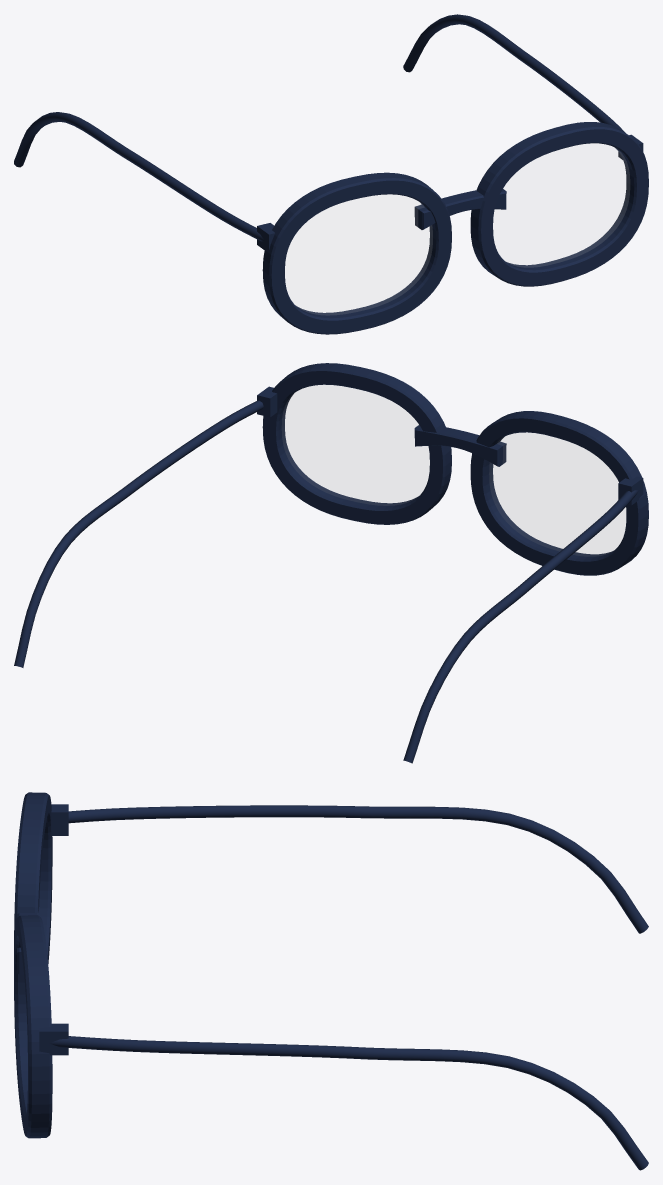
The model's file is NY-M10_Jasper_Navy.glb.
The picture shows the model from 3 angles, top to bottom: view 1: azimuth 30°, elevation 25°; view 2: azimuth 150°, elevation 25°; view 3: azimuth 270°, elevation 25°; orthographic projection. The views are drawn at different scales.
Parts seen in each view (by area): view 1: Jasper_Navy_Acetate, Jasper_Navy_Lenses; view 2: Jasper_Navy_Acetate, Jasper_Navy_Lenses; view 3: Jasper_Navy_Acetate.
Boxes of the visible parts, box(x1,y1,x2,y2) form: Jasper_Navy_Acetate: box(14, 14, 648, 334); Jasper_Navy_Lenses: box(285, 144, 629, 314); Jasper_Navy_Acetate: box(14, 363, 648, 763); Jasper_Navy_Lenses: box(282, 385, 625, 555); Jasper_Navy_Acetate: box(14, 792, 648, 1170).
Size of the model in its own units: 0.1422 by 0.0493 by 0.1537.
